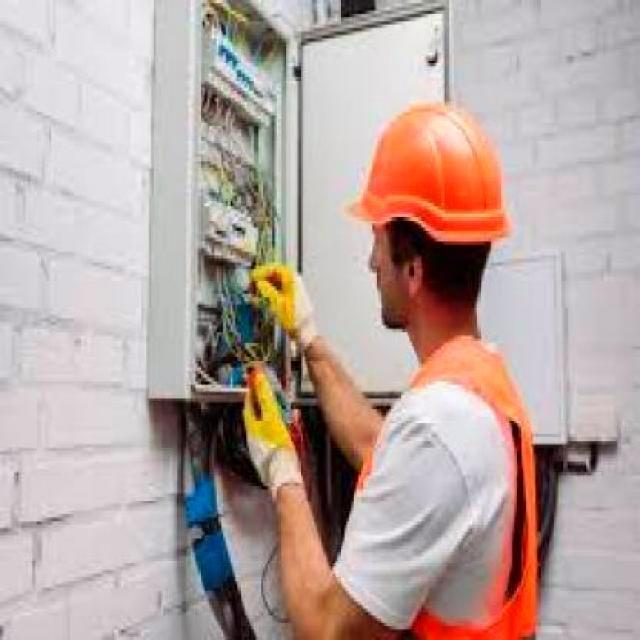vest: (348, 343, 555, 640)
